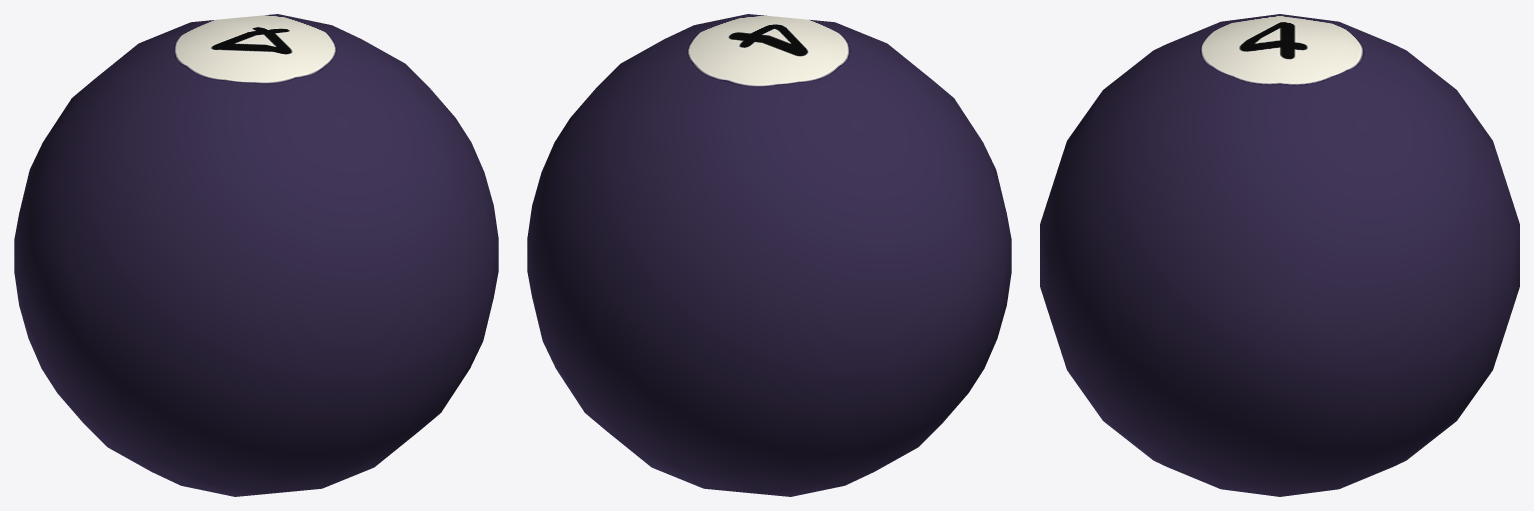
Rendered from Pool_Ball_04.fbx.
3 renders of one model, left to right at view 1: azimuth 30°, elevation 25°; view 2: azimuth 150°, elevation 25°; view 3: azimuth 270°, elevation 25°, orthographic.
Parts seen in each view (by area): view 1: Pool_Ball_04; view 2: Pool_Ball_04; view 3: Pool_Ball_04.
Boxes of the visible parts, box(x1,y1,x2,y2) form: Pool_Ball_04: box(14, 14, 498, 496); Pool_Ball_04: box(527, 14, 1011, 496); Pool_Ball_04: box(1040, 14, 1519, 496).
Size of the model in its own units: 0.051 by 0.051 by 0.0505.
